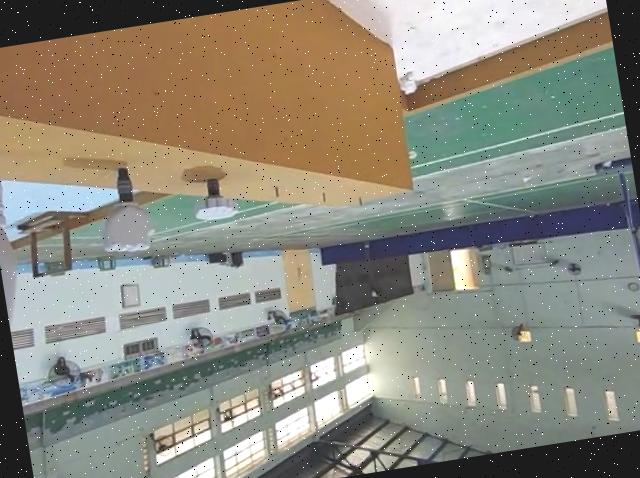Fist: (88, 160, 158, 261)
Hand: (189, 176, 242, 227)
Sph: (0, 140, 33, 356)
